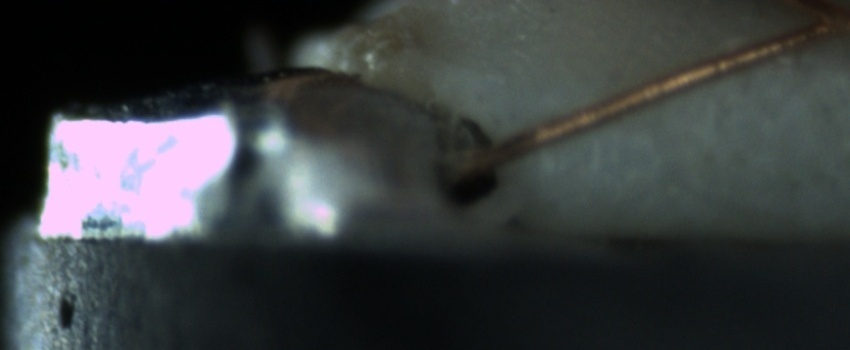CL: (775, 0, 846, 45)
